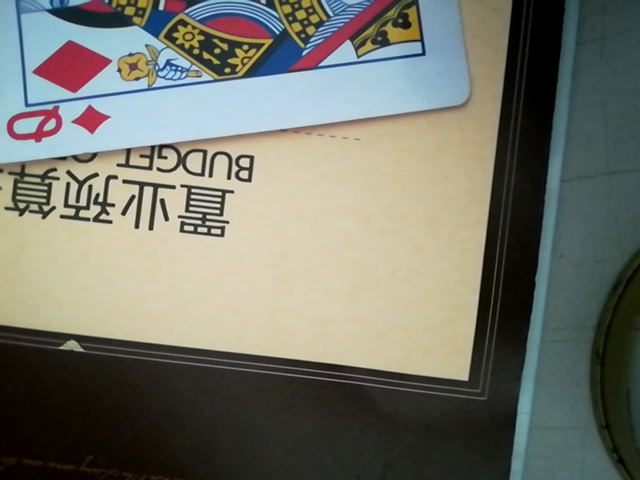fk q: (0, 0, 470, 161)
